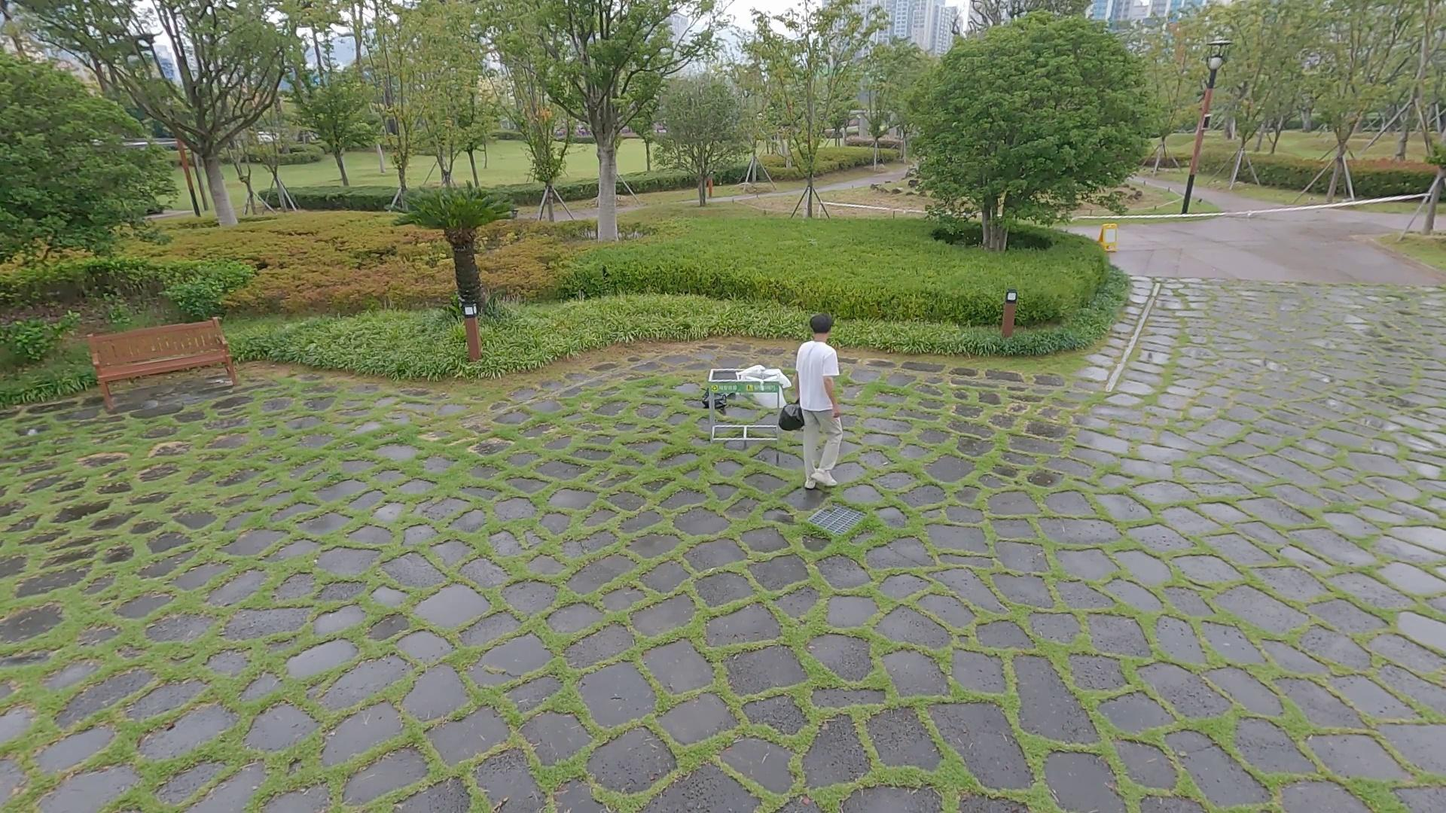person: (792, 307, 843, 494)
trash: (696, 387, 735, 415), (778, 399, 808, 432)
